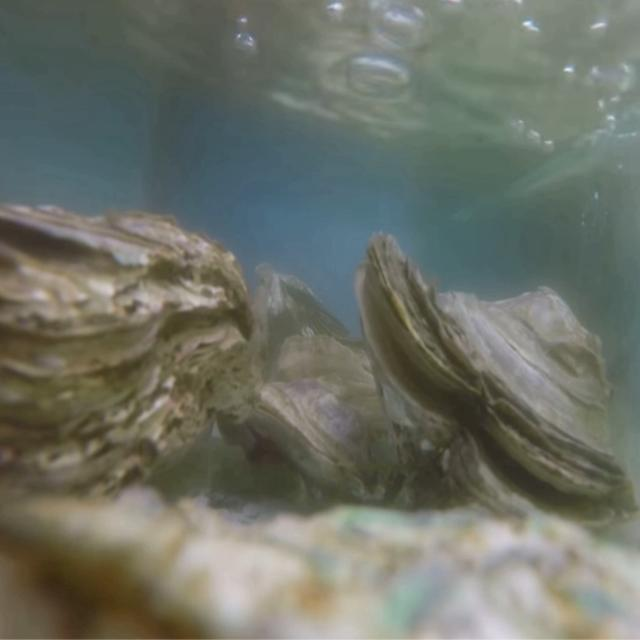Oyster-Closed: (0, 202, 254, 540), (257, 333, 413, 509)
Oyster-Indeterminate: (0, 487, 640, 640)
Oyster-Open: (354, 231, 640, 544)
